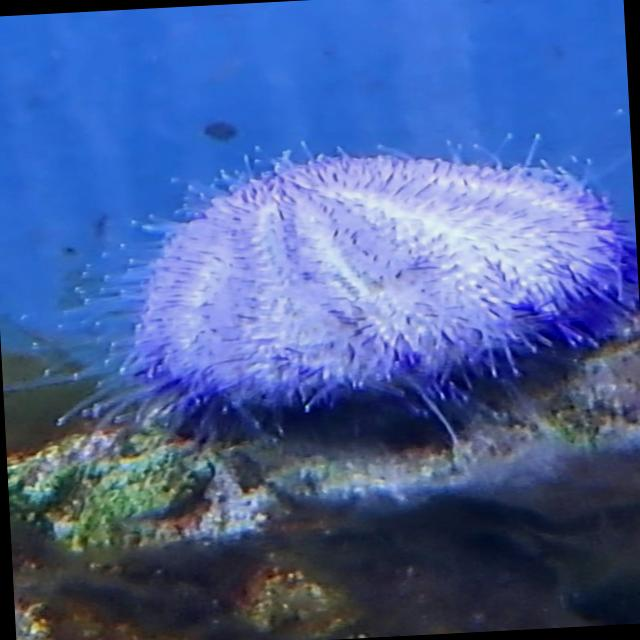Deniz Kestanesi: (43, 109, 640, 456)
